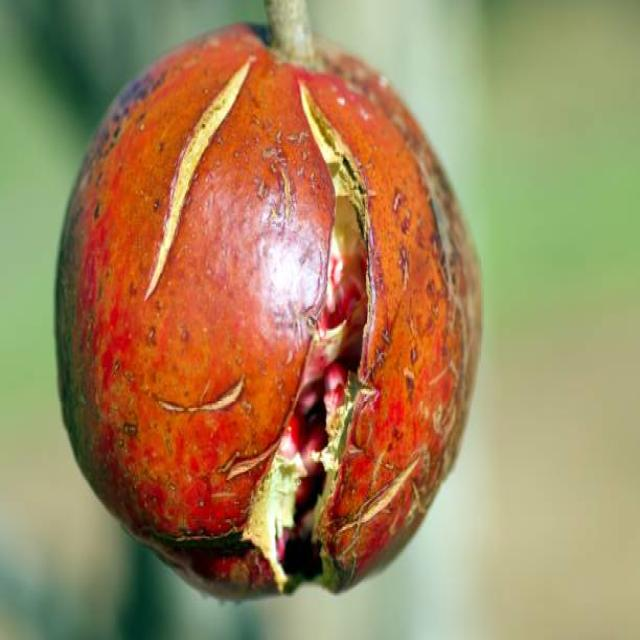overripe: (50, 0, 492, 608)
